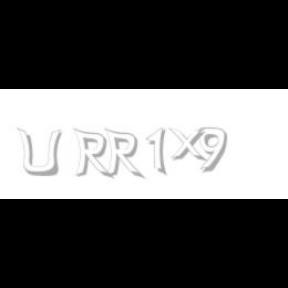1: (145, 128, 167, 176)
9: (198, 128, 228, 172)
R: (73, 128, 111, 180), (104, 128, 142, 180)
U: (16, 128, 62, 178)
x: (168, 128, 210, 162)
